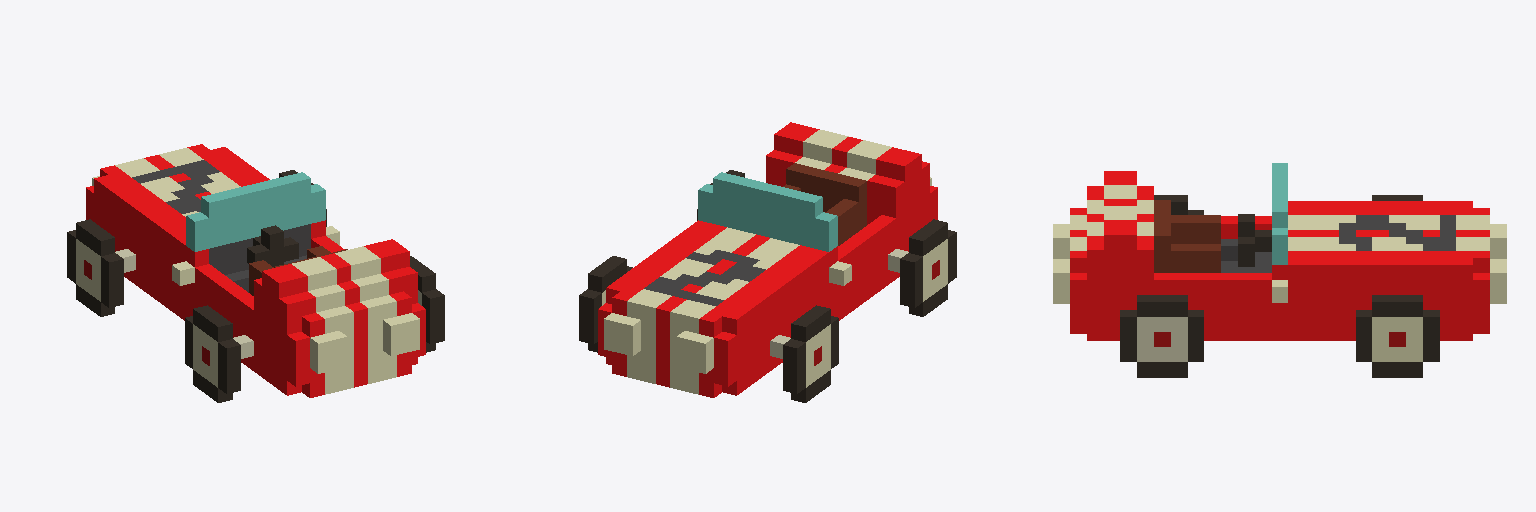
The picture shows the model from 3 angles: view 1: azimuth 30°, elevation 25°; view 2: azimuth 150°, elevation 25°; view 3: azimuth 270°, elevation 25°; orthographic projection.
Parts seen in each view (by area): view 1: object 1; view 2: object 1; view 3: object 1.
Part boxes in pixels (left/top/right/bottom): object 1: left=67, top=144, right=444, bottom=402; object 1: left=579, top=122, right=956, bottom=402; object 1: left=1053, top=163, right=1506, bottom=377.
Size of the model in its own units: 1.5 by 0.9 by 2.7.
Materials: 1 (1 with a texture image).